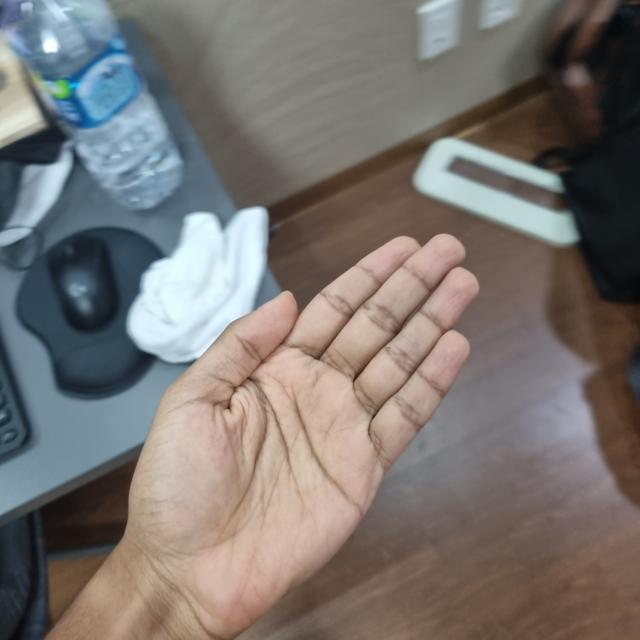Paper: (31, 102, 640, 639)
